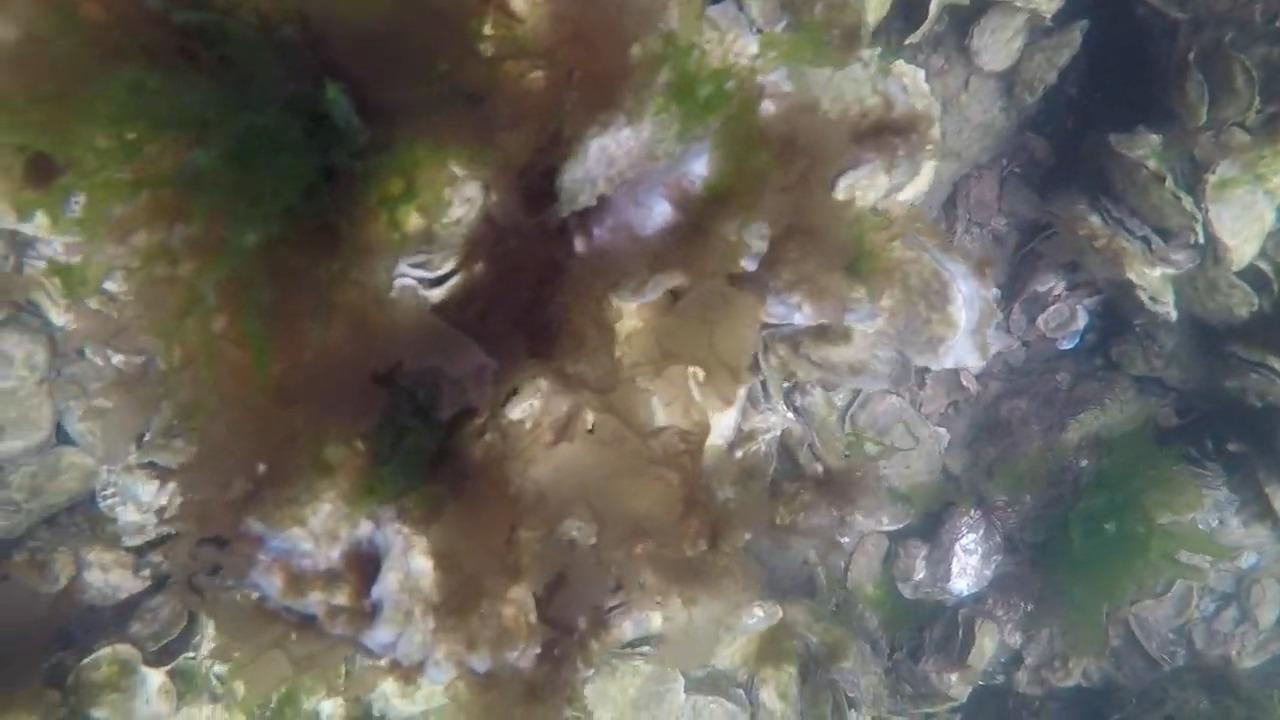Oyster: (993, 161, 1185, 335), (917, 20, 1046, 187), (859, 229, 993, 377), (1085, 142, 1203, 259), (765, 615, 887, 720), (1098, 131, 1200, 255), (892, 504, 1013, 607), (858, 392, 960, 507), (759, 322, 893, 409), (2, 441, 105, 534), (723, 375, 807, 489), (1200, 161, 1280, 270), (786, 378, 871, 476), (1204, 155, 1275, 271), (944, 154, 1031, 248), (1173, 243, 1268, 327), (119, 585, 218, 663), (1006, 273, 1104, 350), (582, 643, 680, 719), (1009, 15, 1089, 102), (740, 525, 829, 602), (1102, 314, 1195, 384), (1188, 38, 1258, 130), (1122, 584, 1198, 664), (964, 3, 1043, 74), (388, 247, 471, 301), (613, 266, 693, 309), (1173, 56, 1212, 132)
